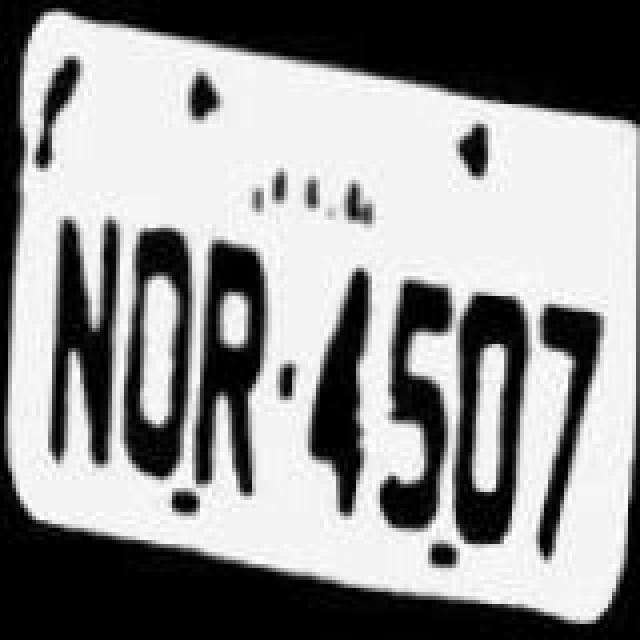4: (298, 242, 382, 522)
5: (370, 256, 454, 540)
7: (524, 248, 604, 568)
N: (36, 200, 120, 472)
O: (448, 248, 536, 552), (114, 218, 198, 490)
R: (192, 230, 280, 498)
